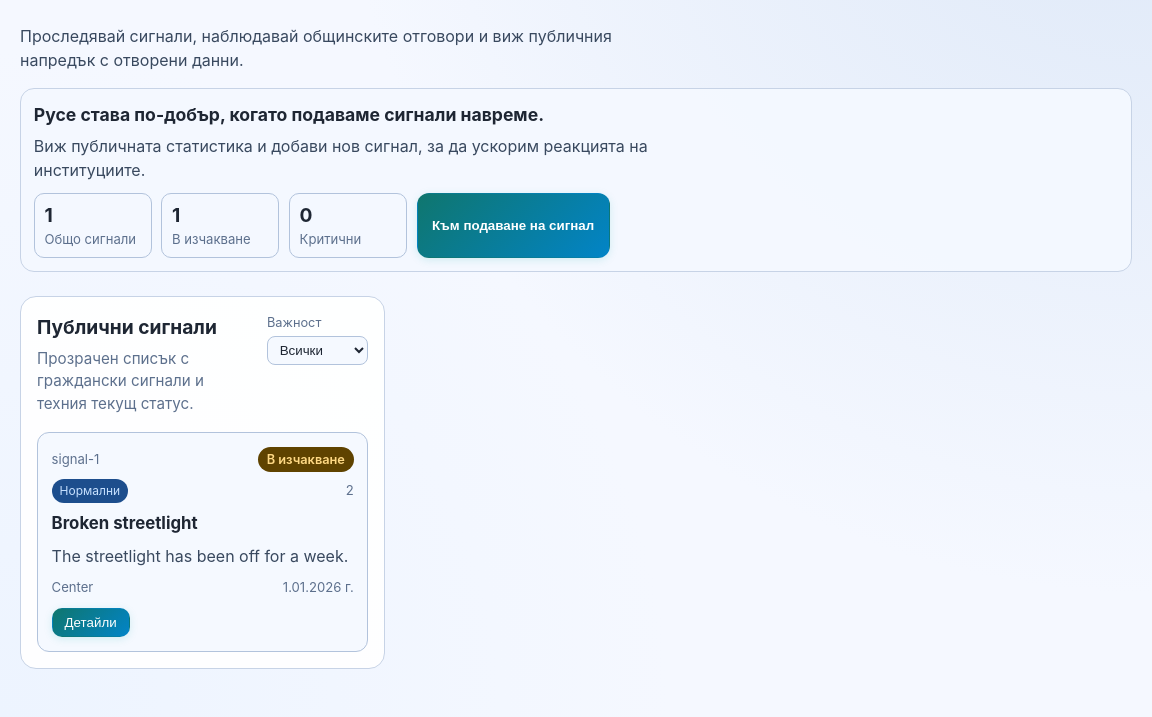
App voting flow › updates the open signal modal with live vote counts after voting, not a stale snapshot
The image size is (1152, 717).
(page scrolled)
Click the button "Детайли": (91, 622) [52,608,130,637]
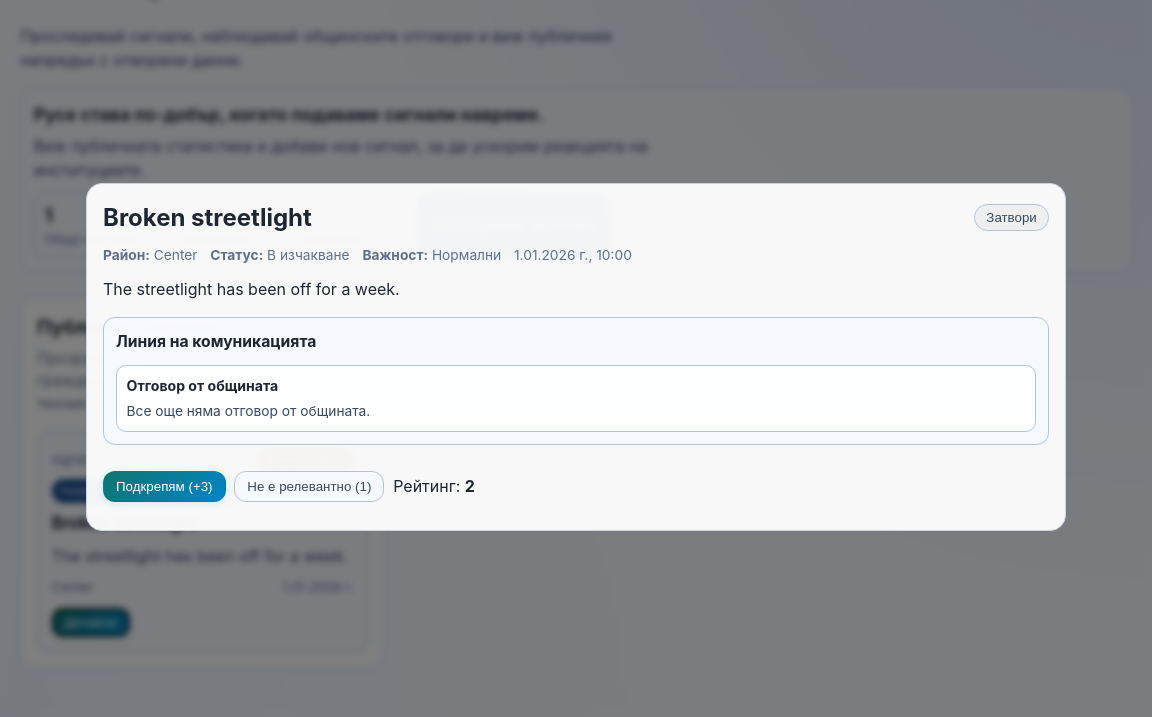
Expected: the button "Подкрепям (+3)" is shown
Click the button "Подкрепям (+3)": (164, 486) [103,471,226,502]
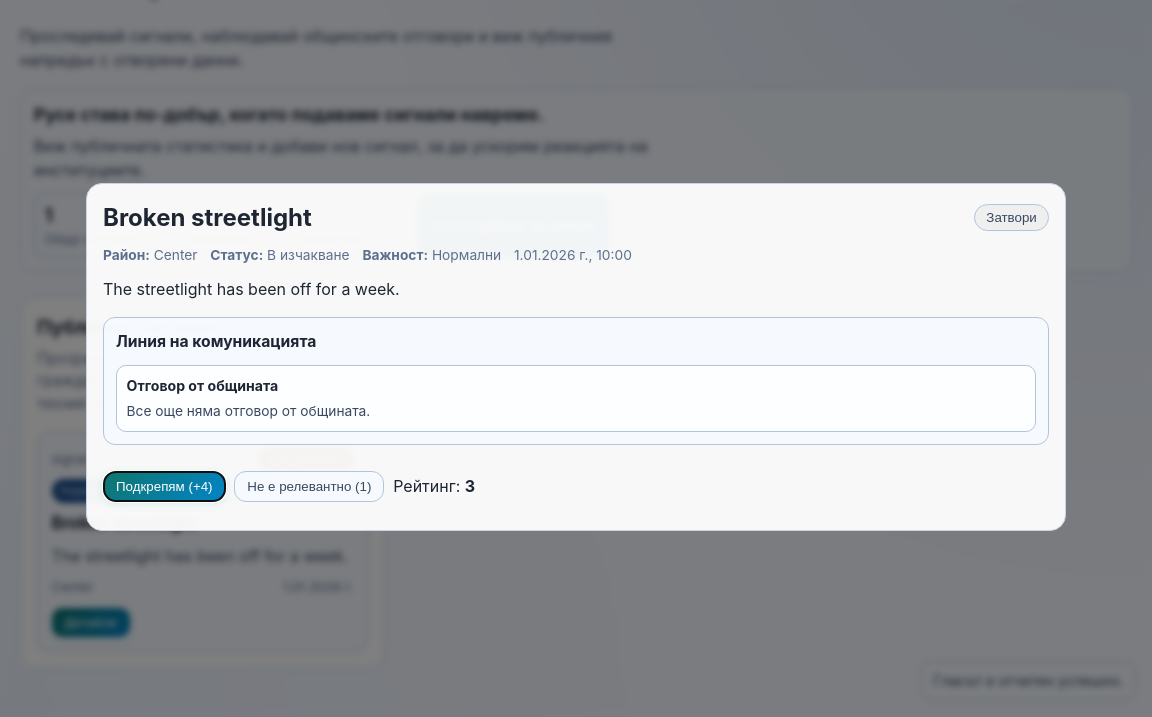
Expected: the button "Подкрепям (+4)" is shown, [103,471,226,502]
